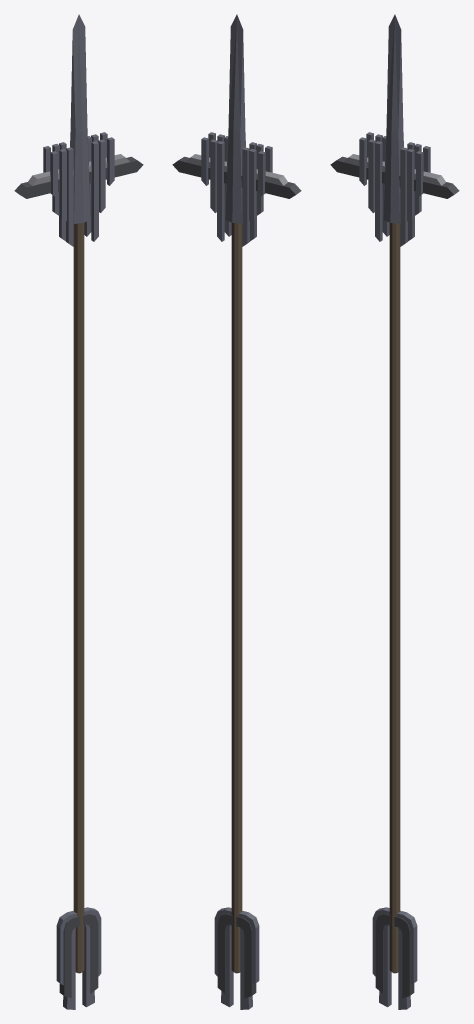
File: Lanca_A05.fbx
3 renders of one model, left to right at view 1: azimuth 30°, elevation 25°; view 2: azimuth 150°, elevation 25°; view 3: azimuth 330°, elevation 25°, orthographic.
Visible parts, largest first — view 1: polearm_5; view 2: polearm_5; view 3: polearm_5.
Boxes of the visible parts, left/top/right/bottom form: polearm_5: left=14, top=14, right=143, bottom=1009; polearm_5: left=172, top=14, right=301, bottom=1009; polearm_5: left=330, top=14, right=459, bottom=1009.
Bounding box in the file's own units: 26.7 × 205 × 3.63.
